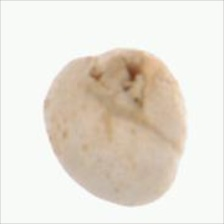L3: (88, 57, 149, 117)
L4: (44, 47, 185, 207)
